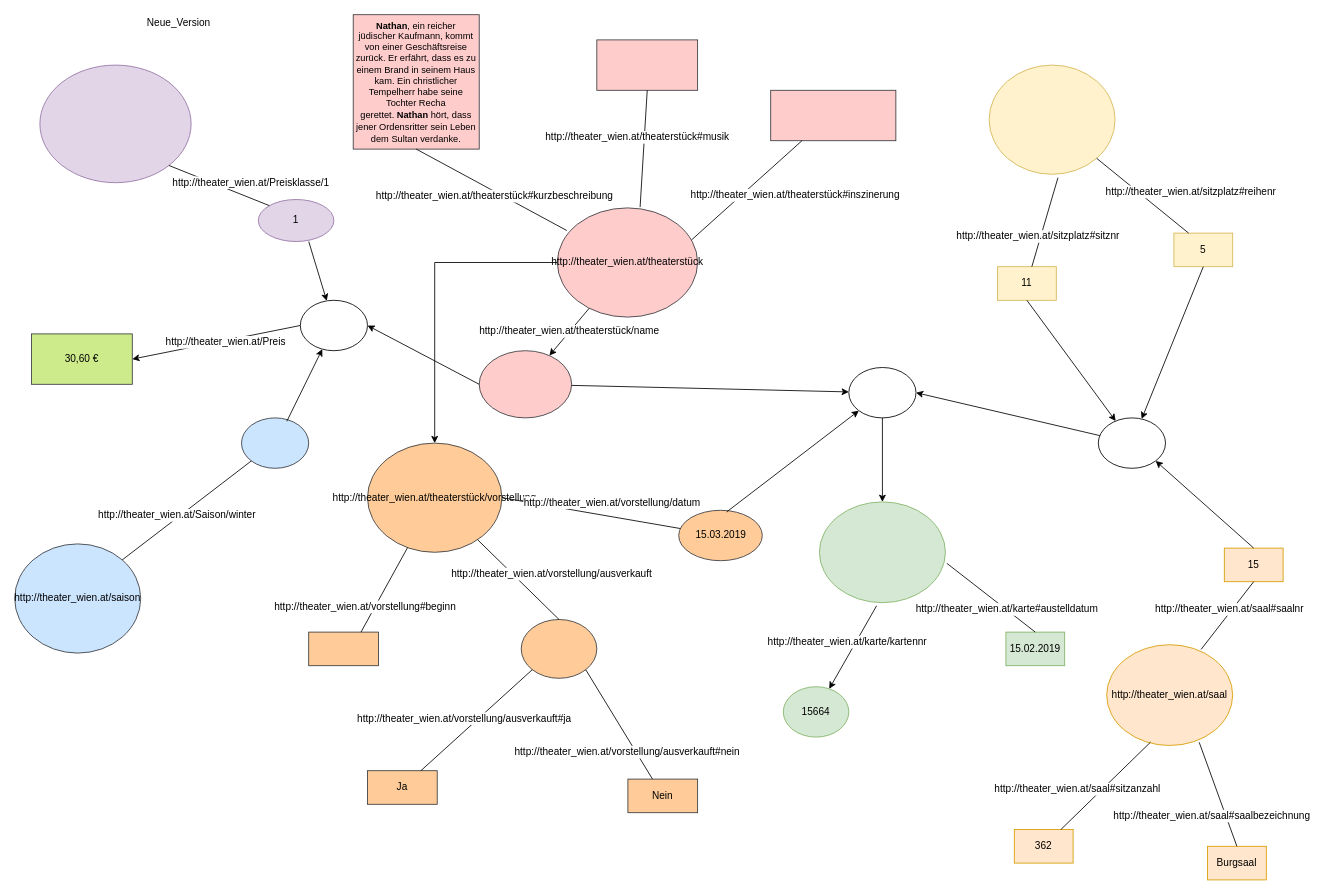
Some shapes in this 1325 by 895 pixel diagram are drawn without their labels. Each missing label, with the centre of its shape:
"15 Uhr" goes at (343,648).
"ausverkauft" goes at (558,648).
"Herbert Beil" goes at (833,115).
"http://theater_wien.at/karte" goes at (882,552).
"http://theater_wien.at/preisklasse" goes at (115,123).
"http://theater_wien.at/sitzplatz" goes at (1051,119).
"Nathan der Weise" goes at (525,384).
"Orchester" goes at (647,64).
"Winter" goes at (275,442).
